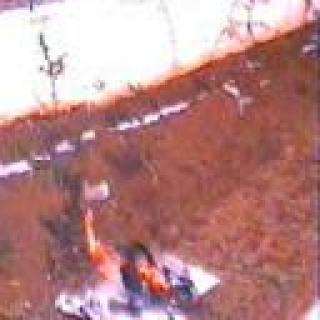fire: (84, 208, 184, 312)
